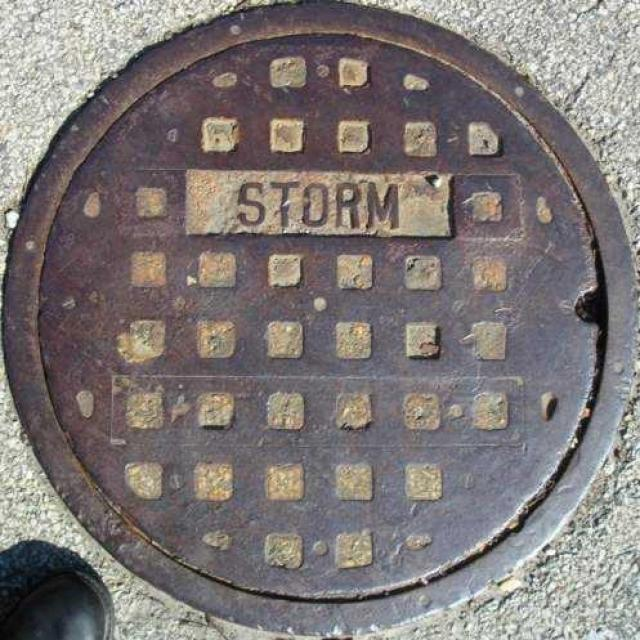manhole: (4, 4, 637, 636)
